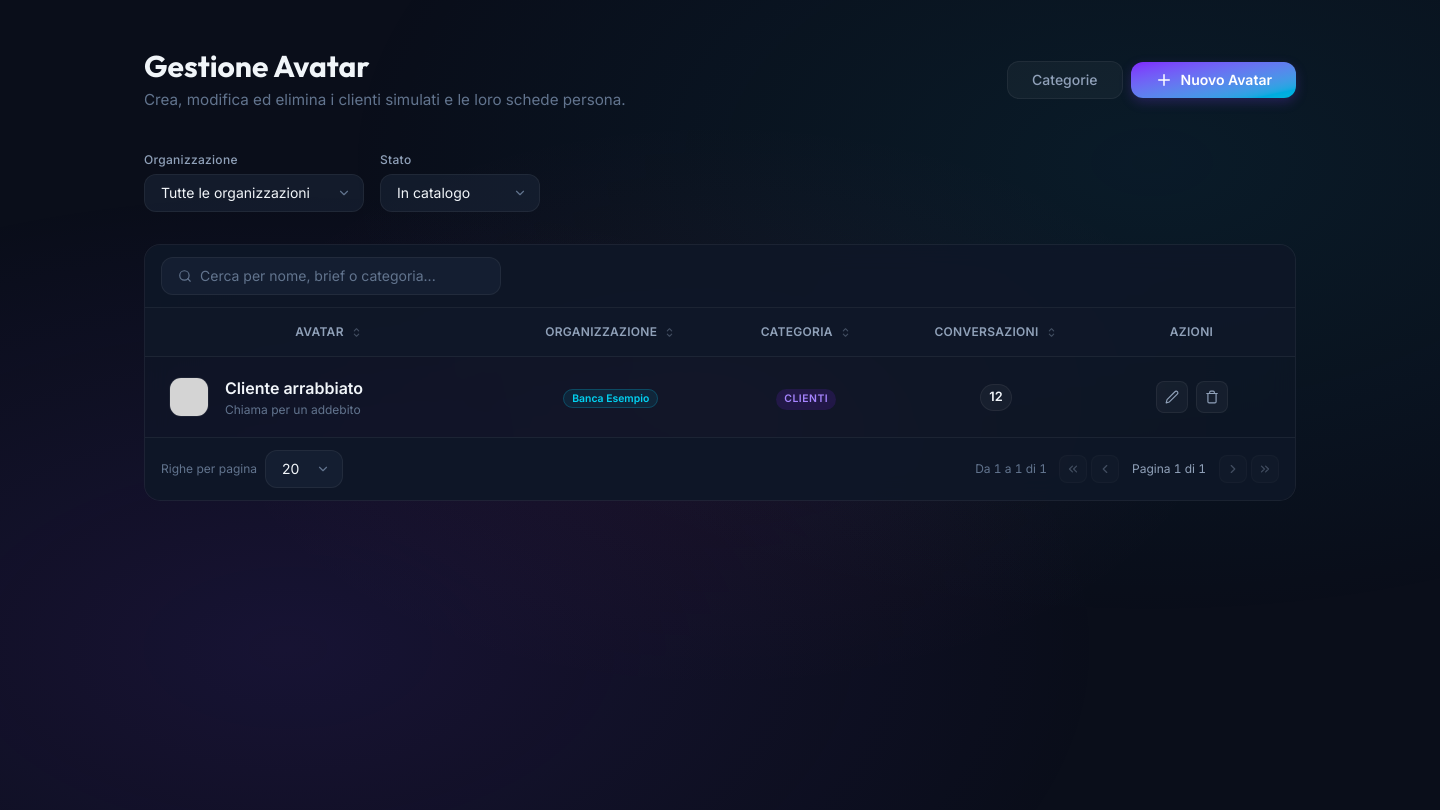
Test case: catalogo › conta gli archiviati dentro l'organizzazione filtrata
The image size is (1440, 810).
Step 1. Click the dropdown named "Organizzazione" → (254, 193), box [144,174,364,212]
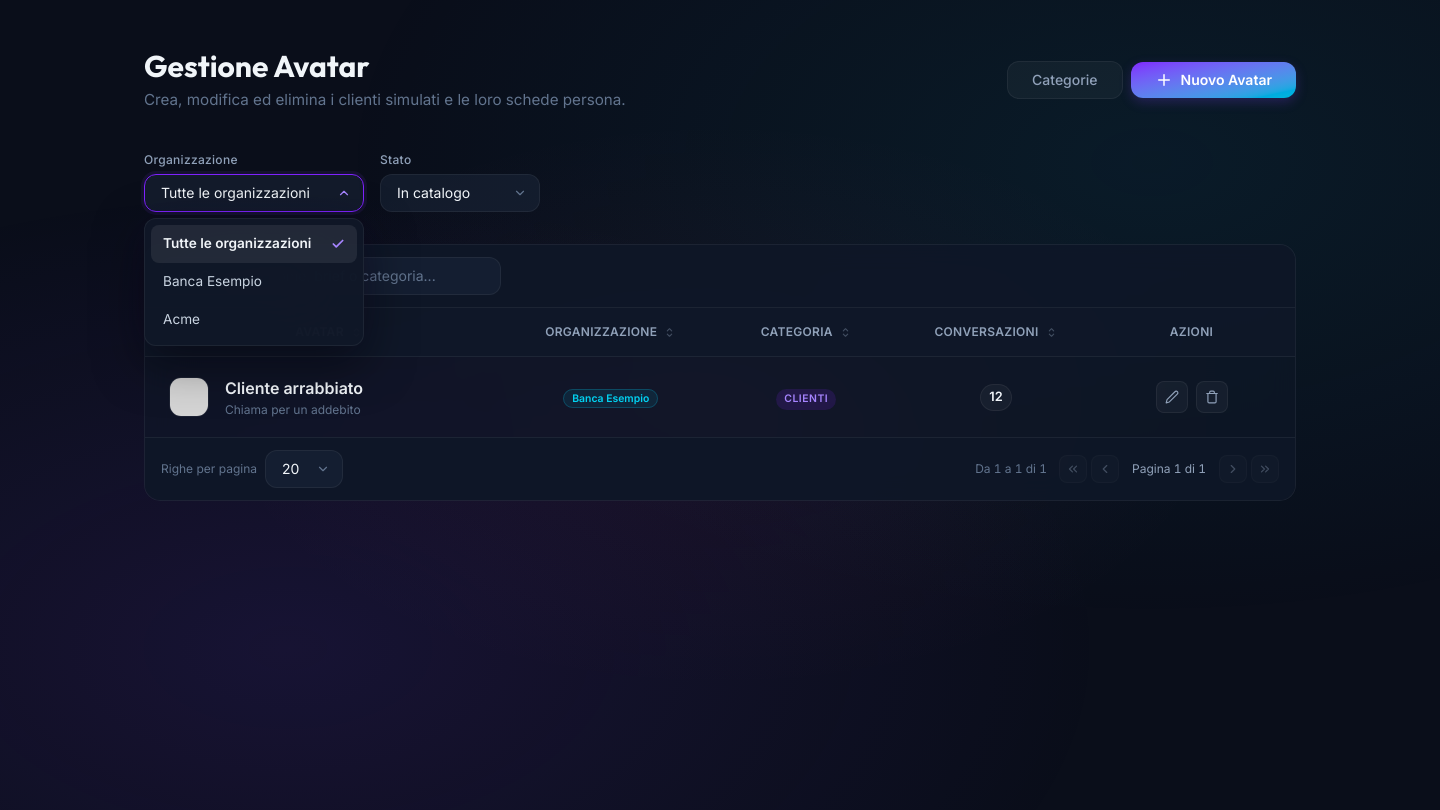
Step 2. Click the option "Banca Esempio" → (212, 281), box [163,273,262,289]
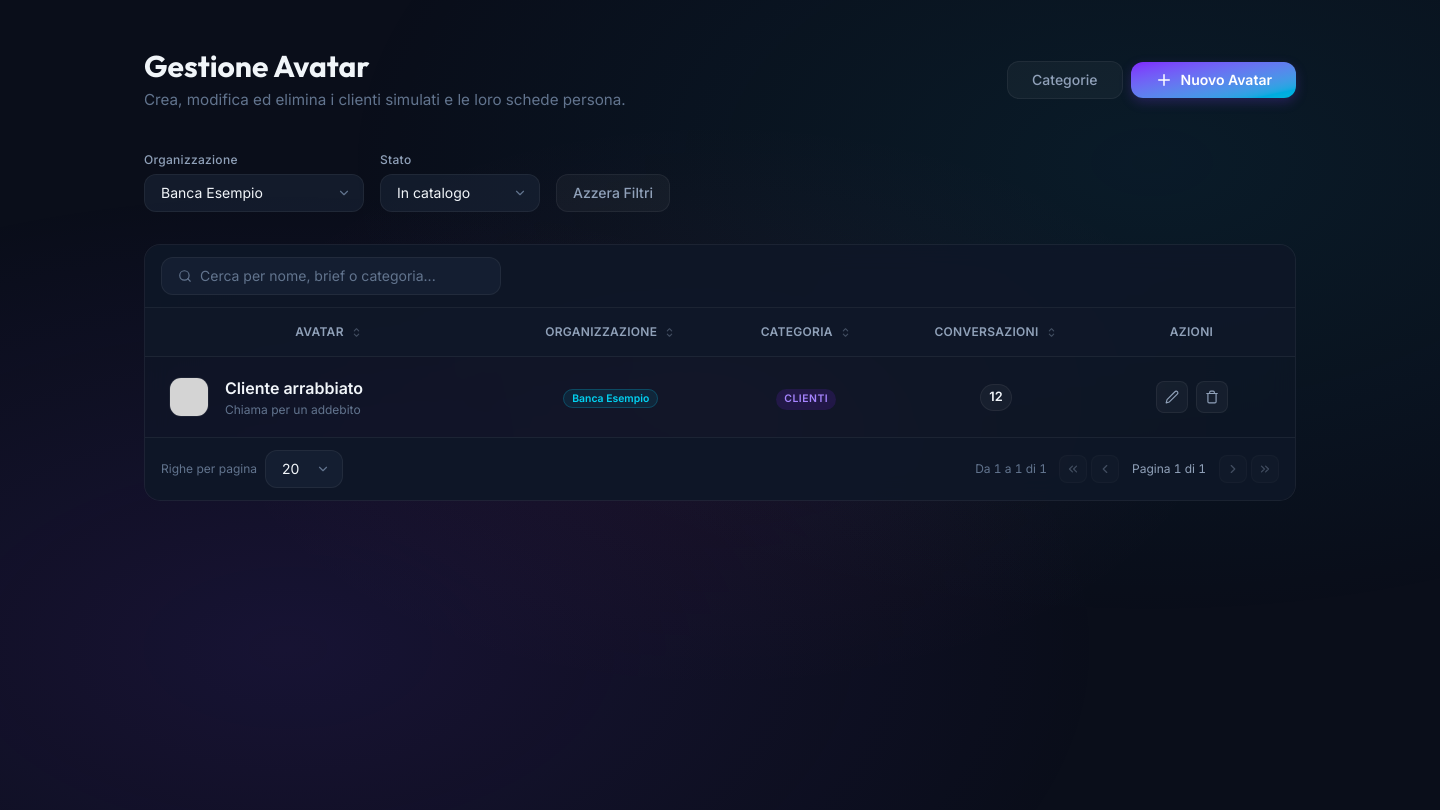
Step 3. Click the dropdown named "Stato" → (460, 193), box [380,174,540,212]
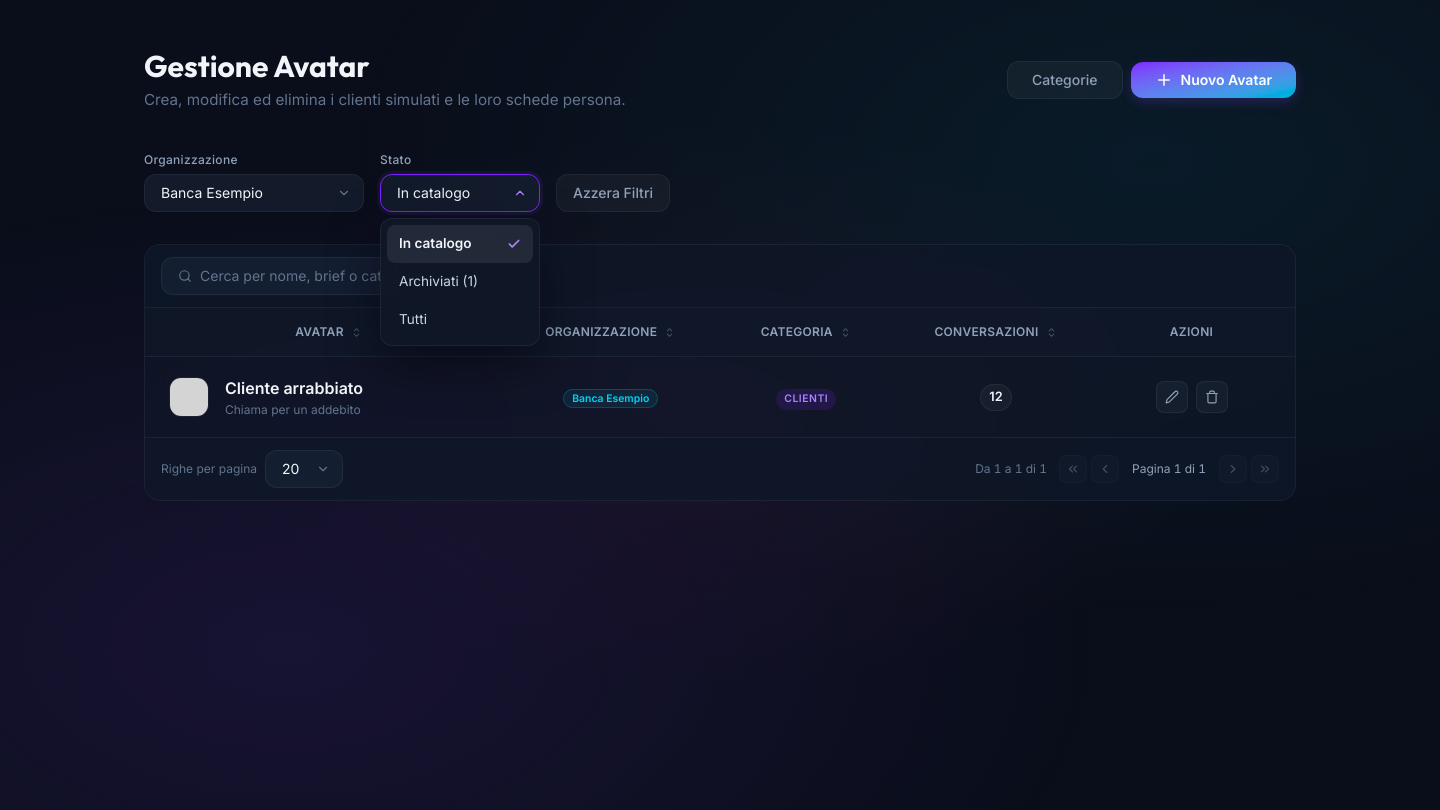
Now the option "Archiviati (1)" is shown, box [399,273,478,289]
